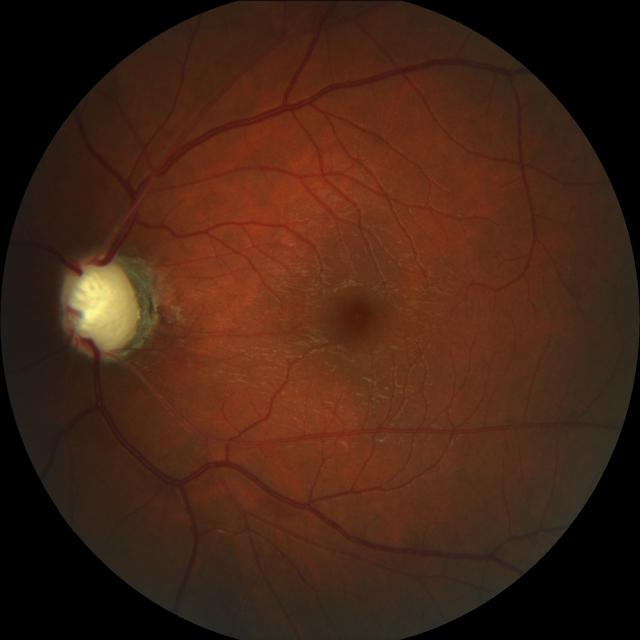OC: (68, 262, 139, 348)
OD: (60, 251, 144, 358)
